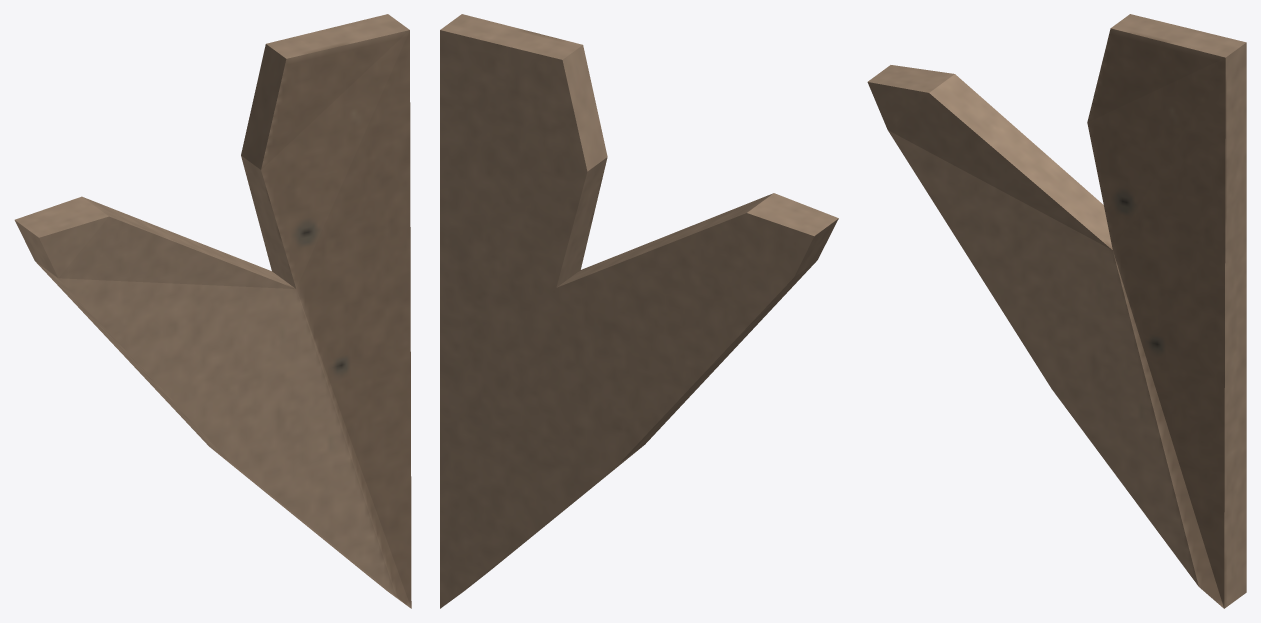
Rendered from lower_armor_L.obj.
3 renders of one model, left to right at view 1: azimuth 30°, elevation 25°; view 2: azimuth 150°, elevation 25°; view 3: azimuth 330°, elevation 25°, orthographic. The views are drawn at different scales.
Parts seen in each view (by area): view 1: lower_armor_L; view 2: lower_armor_L; view 3: lower_armor_L.
Part boxes in pixels (left/top/right/bottom): lower_armor_L: left=14, top=14, right=411, bottom=608; lower_armor_L: left=440, top=14, right=838, bottom=608; lower_armor_L: left=867, top=14, right=1246, bottom=608.
Size of the model in its own units: 0.975 by 1.44 by 0.131.
1 material, 1 textured.
